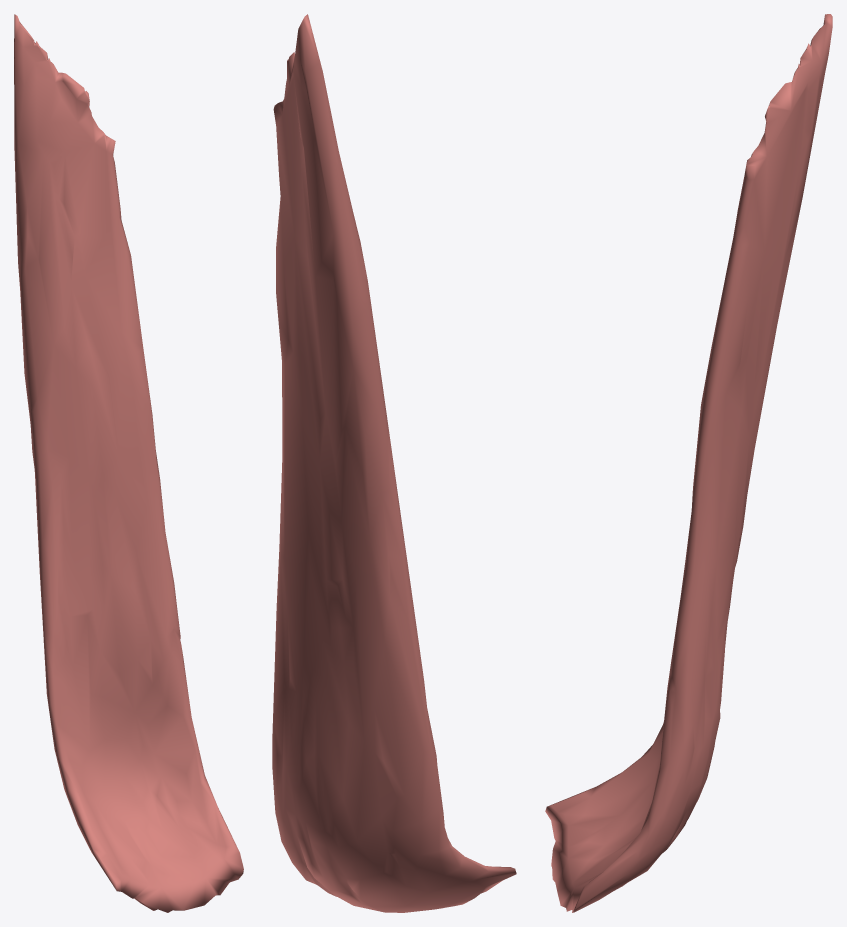
The picture shows the model from 3 angles, left to right: view 1: azimuth 30°, elevation 25°; view 2: azimuth 150°, elevation 25°; view 3: azimuth 270°, elevation 25°; orthographic projection. The views are drawn at different scales.
Visible parts, largest first — view 1: ZA_8deebdd0844edb38; view 2: ZA_8deebdd0844edb38; view 3: ZA_8deebdd0844edb38.
Boxes of the visible parts, x1=… form: ZA_8deebdd0844edb38: x1=14, y1=14, x2=243, y2=912; ZA_8deebdd0844edb38: x1=272, y1=14, x2=516, y2=912; ZA_8deebdd0844edb38: x1=545, y1=14, x2=832, y2=912.
Bounding box in the file's own units: 0.0183 × 0.0988 × 0.0299.
